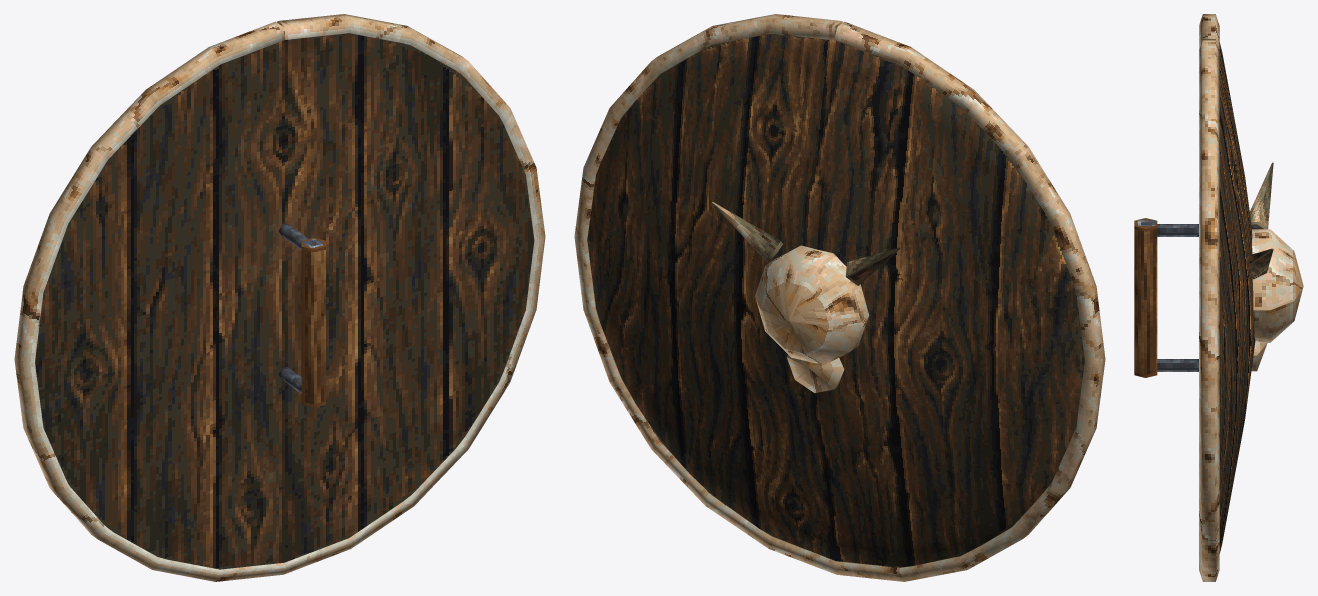
The model's file is skull_boss.glb.
3 views of the same model, side by side, from view 1: azimuth 30°, elevation 25°; view 2: azimuth 150°, elevation 25°; view 3: azimuth 270°, elevation 25° (orthographic). The views are drawn at different scales.
Visible parts, largest first — view 1: skull_boss; view 2: skull_boss; view 3: skull_boss.
Boxes of the visible parts, bbox=[...] form: skull_boss: bbox=[14, 14, 545, 581]; skull_boss: bbox=[574, 14, 1105, 581]; skull_boss: bbox=[1134, 14, 1303, 581].
Bounding box in the file's own units: 0.5202 × 0.5201 × 0.1544.
Materials: 1 (1 with a texture image).
